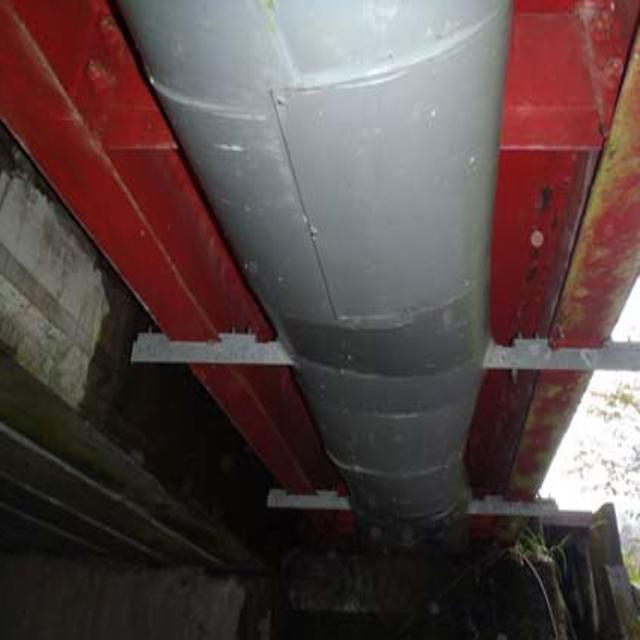leakage: (82, 277, 298, 584)
